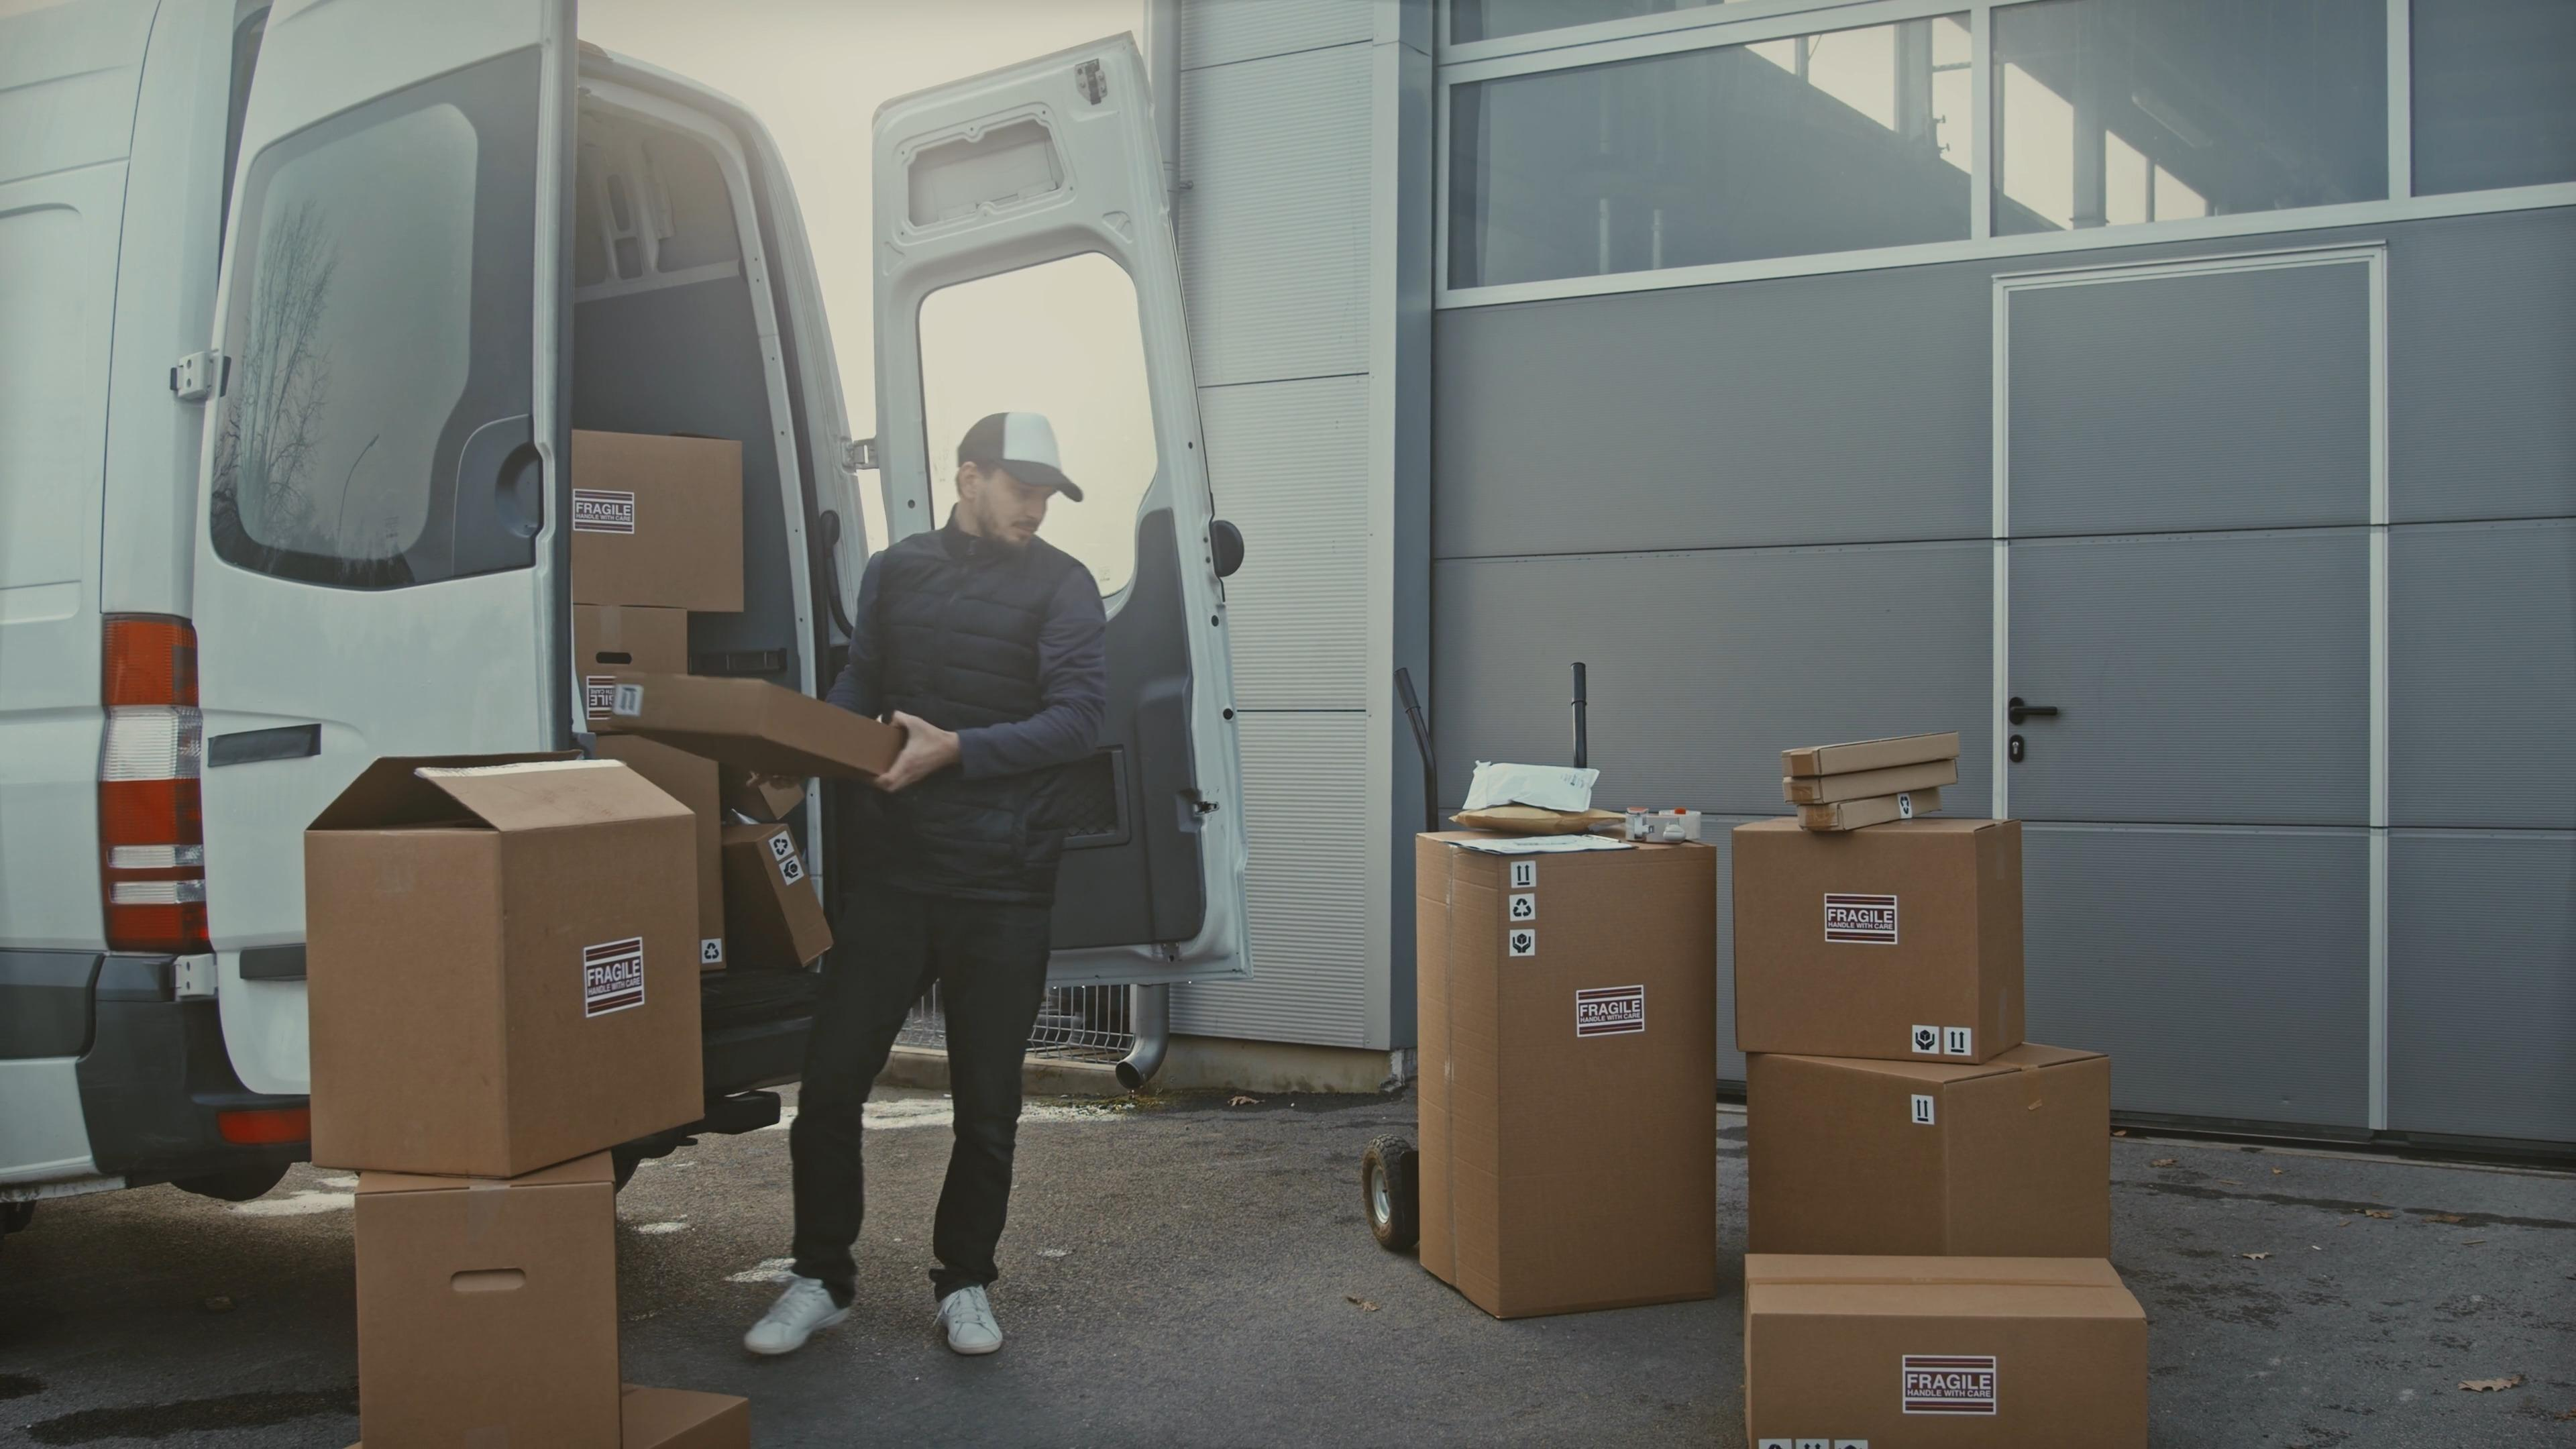-: (306, 748, 699, 1171), (1422, 819, 1725, 1315), (1748, 1246, 2148, 1449), (1721, 809, 2028, 1069), (356, 1171, 635, 1449), (1762, 1047, 2102, 1267), (568, 426, 754, 614), (610, 665, 901, 784), (1775, 771, 1969, 805), (1792, 736, 1966, 773), (1789, 805, 1955, 832)
